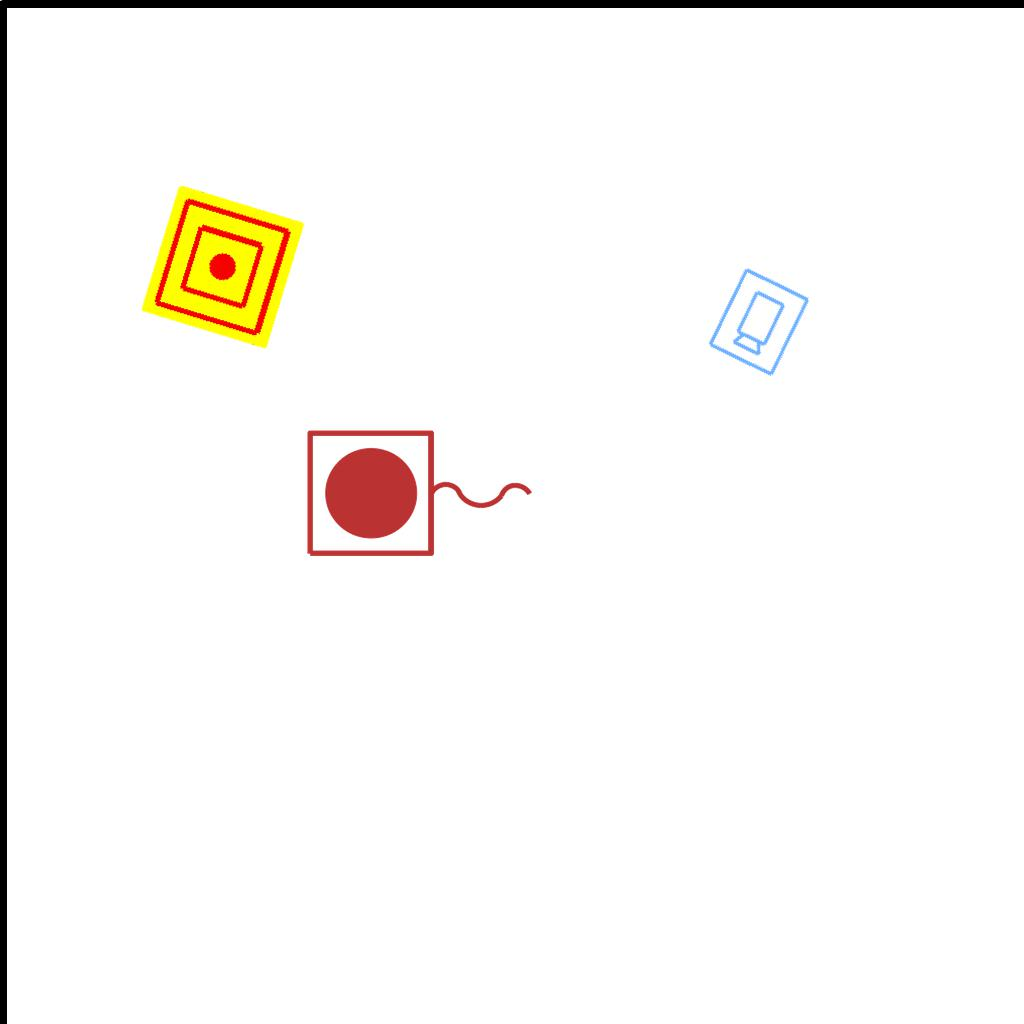KFO_Kamera_mit_Festobjektiv: (703, 263, 814, 380)
NAM-Nichtautomatischer_Melder: (140, 184, 306, 350)
Zugtaster: (299, 423, 543, 567)
